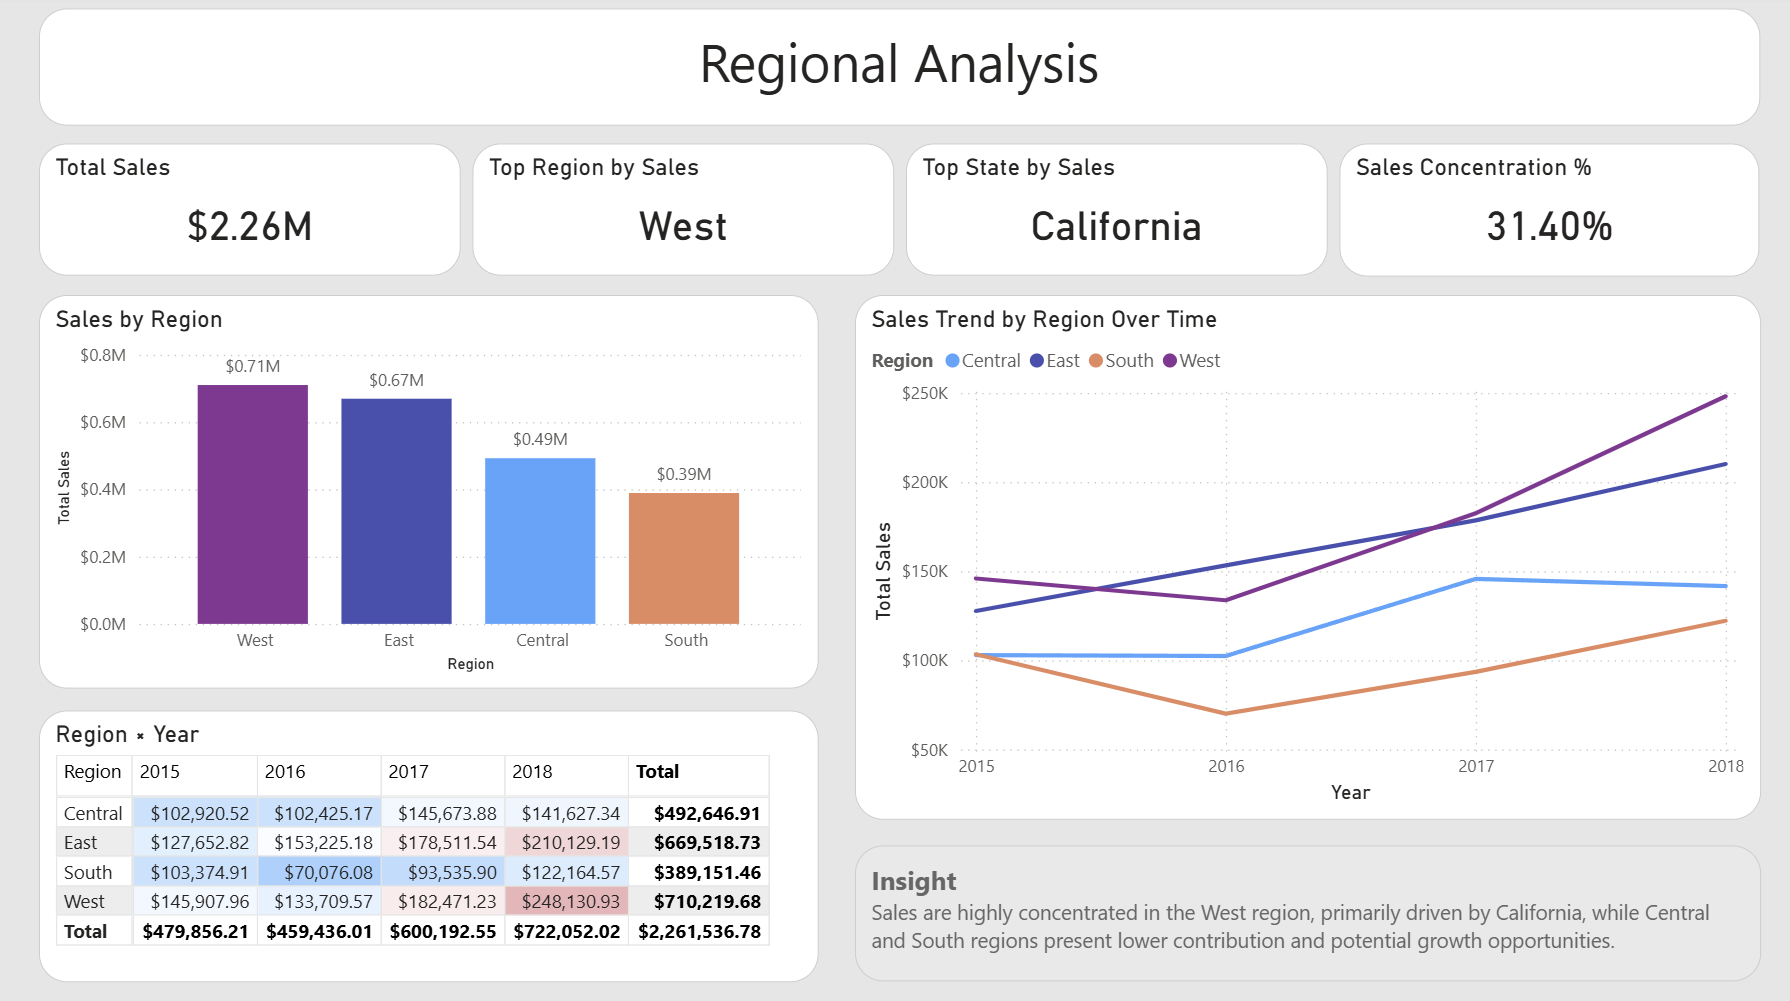

This screenshot's page, from the dashboard's own definition file:
{"tool":"powerbi","page":{"name":"Regional Analysis","canvas":[1280,720],"ordinal":2},"visuals":[{"type":"card","title":"Total Sales","fields":{"Values":["Fact_Sales.Total_Sales"]},"box":[32,105.7,299.9,93.9],"z":0},{"type":"card","title":"Top Region by Sales","fields":{"Values":["Min(Dim_Geography.Region)"]},"box":[340.4,105.7,299.9,93.9],"z":1000},{"type":"card","title":"Sales Concentration %","fields":{"Values":["Fact_Sales.Sales Concentration %"]},"box":[957.8,105.6,298.9,94.4],"z":2000},{"type":"textbox","box":[32.2,10,1224.4,83.3],"z":3000},{"type":"card","title":"Top State by Sales","fields":{"Values":["Min(Dim_Geography.State)"]},"box":[648.9,105.7,299.9,93.9],"z":4000},{"type":"clusteredColumnChart","title":"Sales by Region","fields":{"Y":["Fact_Sales.Total Sales"],"Category":["Dim_Geography.Region"]},"box":[32.2,213.3,554.4,280],"z":5000},{"type":"lineChart","title":"Sales Trend by Region Over Time","fields":{"Category":["Dim_Date.Year"],"Y":["Fact_Sales.Total Sales"],"Series":["Dim_Geography.Region"]},"box":[612.2,213.3,644.4,373.3],"z":6000},{"type":"pivotTable","title":"Region × Year","fields":{"Rows":["Dim_Geography.Region"],"Columns":["Dim_Date.Year"],"Values":["Fact_Sales.Total Sales"]},"box":[32.2,508.9,554.4,193.3],"z":7000},{"type":"textbox","box":[612.2,605.6,644.4,96.7],"z":8000}]}

Visuals, with their boxes in screenshot pixels (x1, y1, x2, y2), scaled from the page's 1280x720 canvas onto the 1790x1001 screenshot:
"Total Sales" card: rect(45, 147, 464, 277)
"Top Region by Sales" card: rect(476, 147, 895, 277)
"Sales Concentration %" card: rect(1339, 147, 1757, 278)
textbox: rect(45, 14, 1757, 130)
"Top State by Sales" card: rect(907, 147, 1327, 277)
"Sales by Region" clusteredColumnChart: rect(45, 297, 820, 686)
"Sales Trend by Region Over Time" lineChart: rect(856, 297, 1757, 816)
"Region × Year" pivotTable: rect(45, 708, 820, 976)
textbox: rect(856, 842, 1757, 976)
